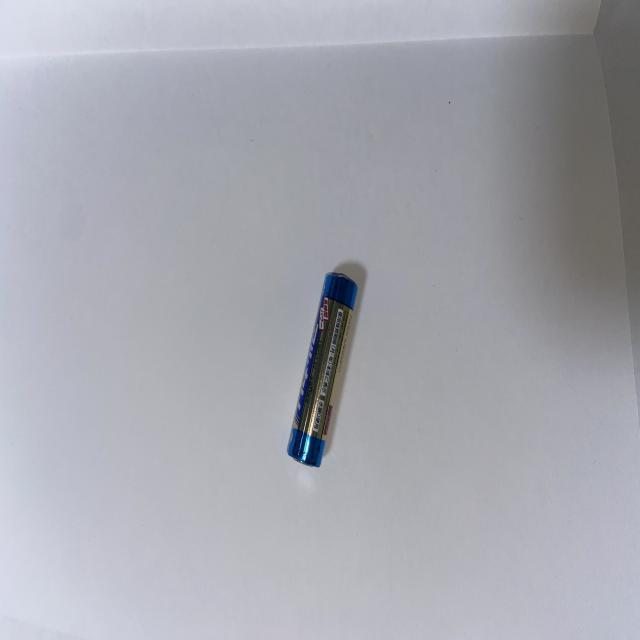Hazard: (284, 268, 359, 472)
